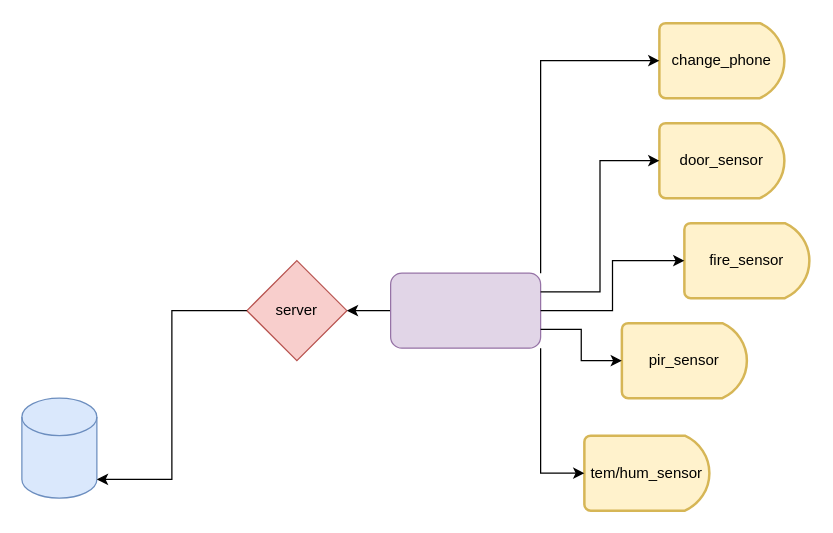
The diagram is 833 pixels wide and 533 high, and some of its shapes have lost their labels. Each missing label, with the centre of its shape:
login: the point at 465,310
sqlite: the point at 59,447
